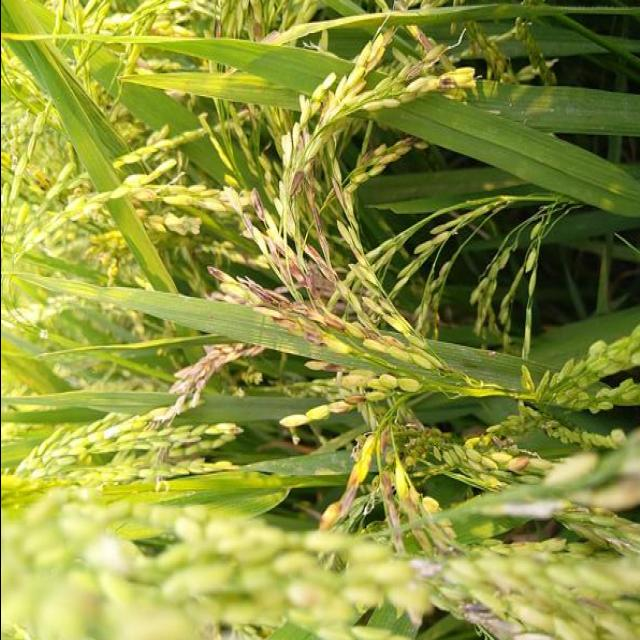Panicle Blight: (206, 265, 345, 331), (170, 343, 265, 395), (462, 598, 560, 640), (266, 238, 335, 296), (592, 427, 640, 509), (394, 23, 443, 96), (320, 461, 361, 530), (268, 316, 321, 346), (304, 234, 335, 283), (360, 326, 405, 349), (382, 472, 399, 530), (306, 185, 321, 235), (328, 393, 367, 412), (489, 426, 515, 451), (221, 293, 258, 309), (226, 248, 257, 267), (412, 527, 433, 554), (251, 189, 264, 221), (288, 169, 304, 195), (355, 149, 375, 168), (322, 363, 348, 376), (332, 179, 344, 207), (508, 456, 529, 472), (438, 76, 456, 93), (404, 495, 419, 515), (380, 425, 390, 453), (437, 544, 462, 555), (405, 410, 419, 429), (296, 131, 307, 151), (392, 532, 403, 552), (227, 425, 242, 439), (242, 214, 252, 232), (423, 428, 438, 439), (404, 136, 420, 145)
